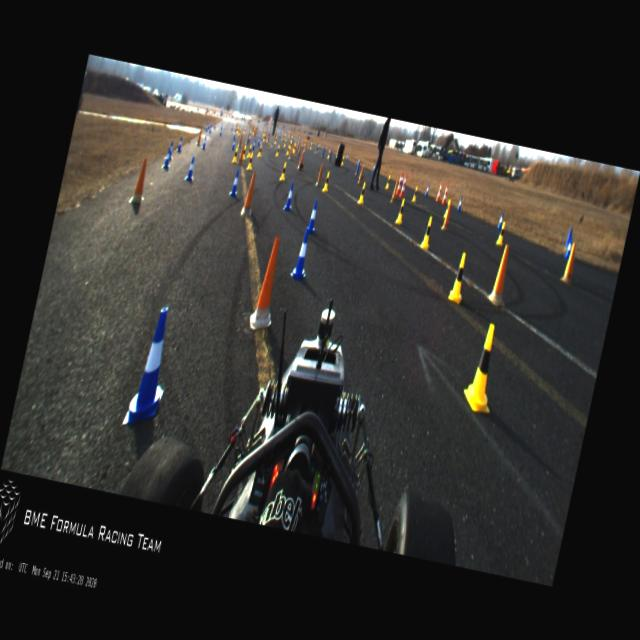blue_cone: (120, 302, 180, 432), (290, 227, 314, 280), (304, 198, 321, 235), (282, 181, 296, 210), (228, 169, 240, 197), (184, 156, 196, 180), (564, 236, 572, 258), (163, 148, 172, 167), (497, 210, 505, 230), (167, 142, 174, 160), (176, 137, 182, 151), (457, 196, 463, 210), (424, 184, 430, 196), (230, 138, 236, 150), (202, 135, 206, 148), (400, 174, 404, 186), (218, 126, 222, 136), (252, 140, 256, 150), (371, 164, 375, 172), (278, 130, 282, 138), (257, 136, 260, 146), (232, 131, 235, 140), (259, 138, 262, 146), (208, 126, 212, 132), (205, 122, 208, 130), (230, 122, 233, 130), (213, 122, 216, 128), (346, 152, 348, 160), (248, 133, 250, 141), (208, 122, 210, 130), (324, 146, 326, 152)
large_orange_cone: (399, 173, 408, 197), (395, 171, 403, 195), (441, 183, 449, 204), (436, 182, 442, 201)
yellow_cone: (458, 322, 506, 414), (448, 252, 470, 302), (420, 214, 434, 250), (394, 197, 406, 224), (496, 220, 506, 245), (357, 181, 367, 204), (321, 170, 331, 192), (279, 161, 288, 180), (246, 153, 254, 169), (443, 199, 449, 218), (232, 146, 238, 162), (412, 186, 418, 202), (241, 145, 247, 159), (384, 175, 390, 189), (246, 144, 252, 157), (256, 144, 262, 156), (275, 145, 280, 156), (340, 156, 344, 166), (262, 132, 266, 142), (288, 140, 292, 150), (274, 136, 278, 145), (292, 144, 296, 152), (237, 128, 241, 136), (286, 145, 289, 154), (326, 150, 329, 158), (283, 139, 286, 147), (316, 144, 319, 152), (292, 142, 295, 150), (242, 127, 245, 134), (290, 136, 293, 143), (309, 142, 312, 148), (236, 126, 239, 132), (304, 139, 306, 146), (283, 133, 285, 139)
